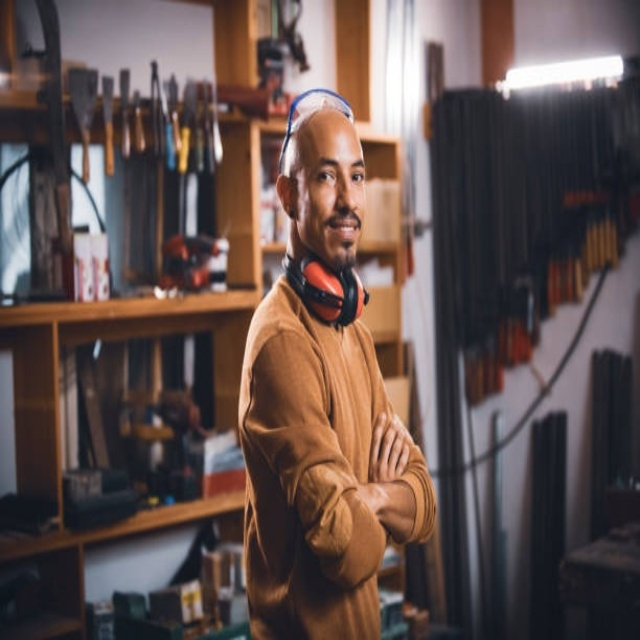Sin_gafas: (307, 146, 369, 191)
Sin_guantes: (369, 409, 414, 486)
Sin_mascara: (322, 215, 365, 254)
